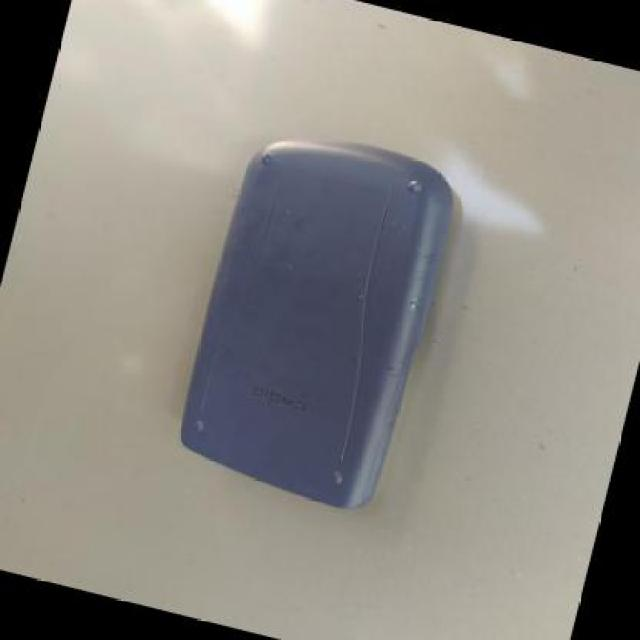Calculator: (149, 111, 466, 528)
